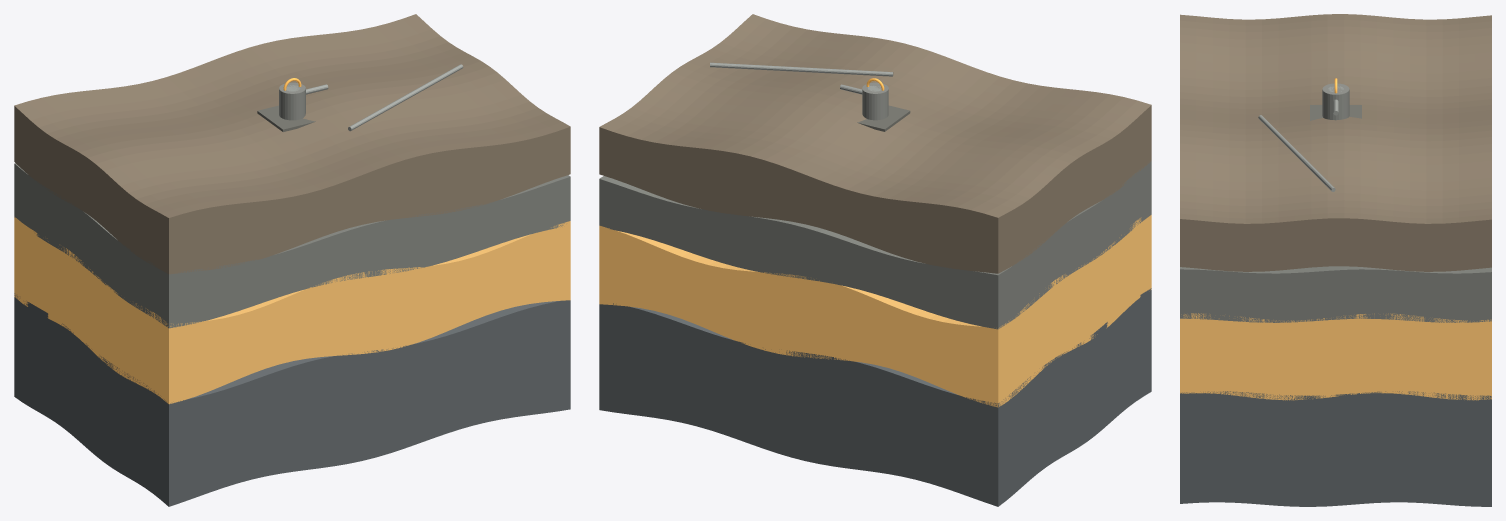
File: underground.glb
3 views of the same model, side by side, from view 1: azimuth 30°, elevation 25°; view 2: azimuth 150°, elevation 25°; view 3: azimuth 270°, elevation 25° (orthographic).
Parts seen in each view (by area): view 1: geo_overburden, geo_basement, geo_reservoir_layer, geo_caprock, well_cement, well_flowline, surface_pad; view 2: geo_overburden, geo_basement, geo_reservoir_layer, geo_caprock, well_flowline, well_cement; view 3: geo_overburden, geo_basement, geo_reservoir_layer, geo_caprock, well_cement, well_flowline, surface_pad.
Part boxes in pixels (x1,y1,x2,y2): geo_overburden: (14,14,570,274); geo_basement: (14,293,570,506); geo_reservoir_layer: (14,217,570,404); geo_caprock: (14,163,570,328); well_cement: (279,82,305,120); well_flowline: (348,64,463,131); surface_pad: (257,105,315,131); geo_overburden: (599,14,1151,273); geo_basement: (599,288,1151,506); geo_reservoir_layer: (599,215,1151,407); geo_caprock: (599,161,1151,329); well_flowline: (710,62,893,76); well_cement: (862,82,888,120); geo_overburden: (1180,14,1491,271); geo_basement: (1180,391,1491,506); geo_reservoir_layer: (1180,313,1491,400); geo_caprock: (1180,266,1491,322); well_cement: (1322,83,1349,120); well_flowline: (1258,115,1335,191); surface_pad: (1310,105,1361,120).
Bounding box in the file's own units: 18 × 14 × 12.
